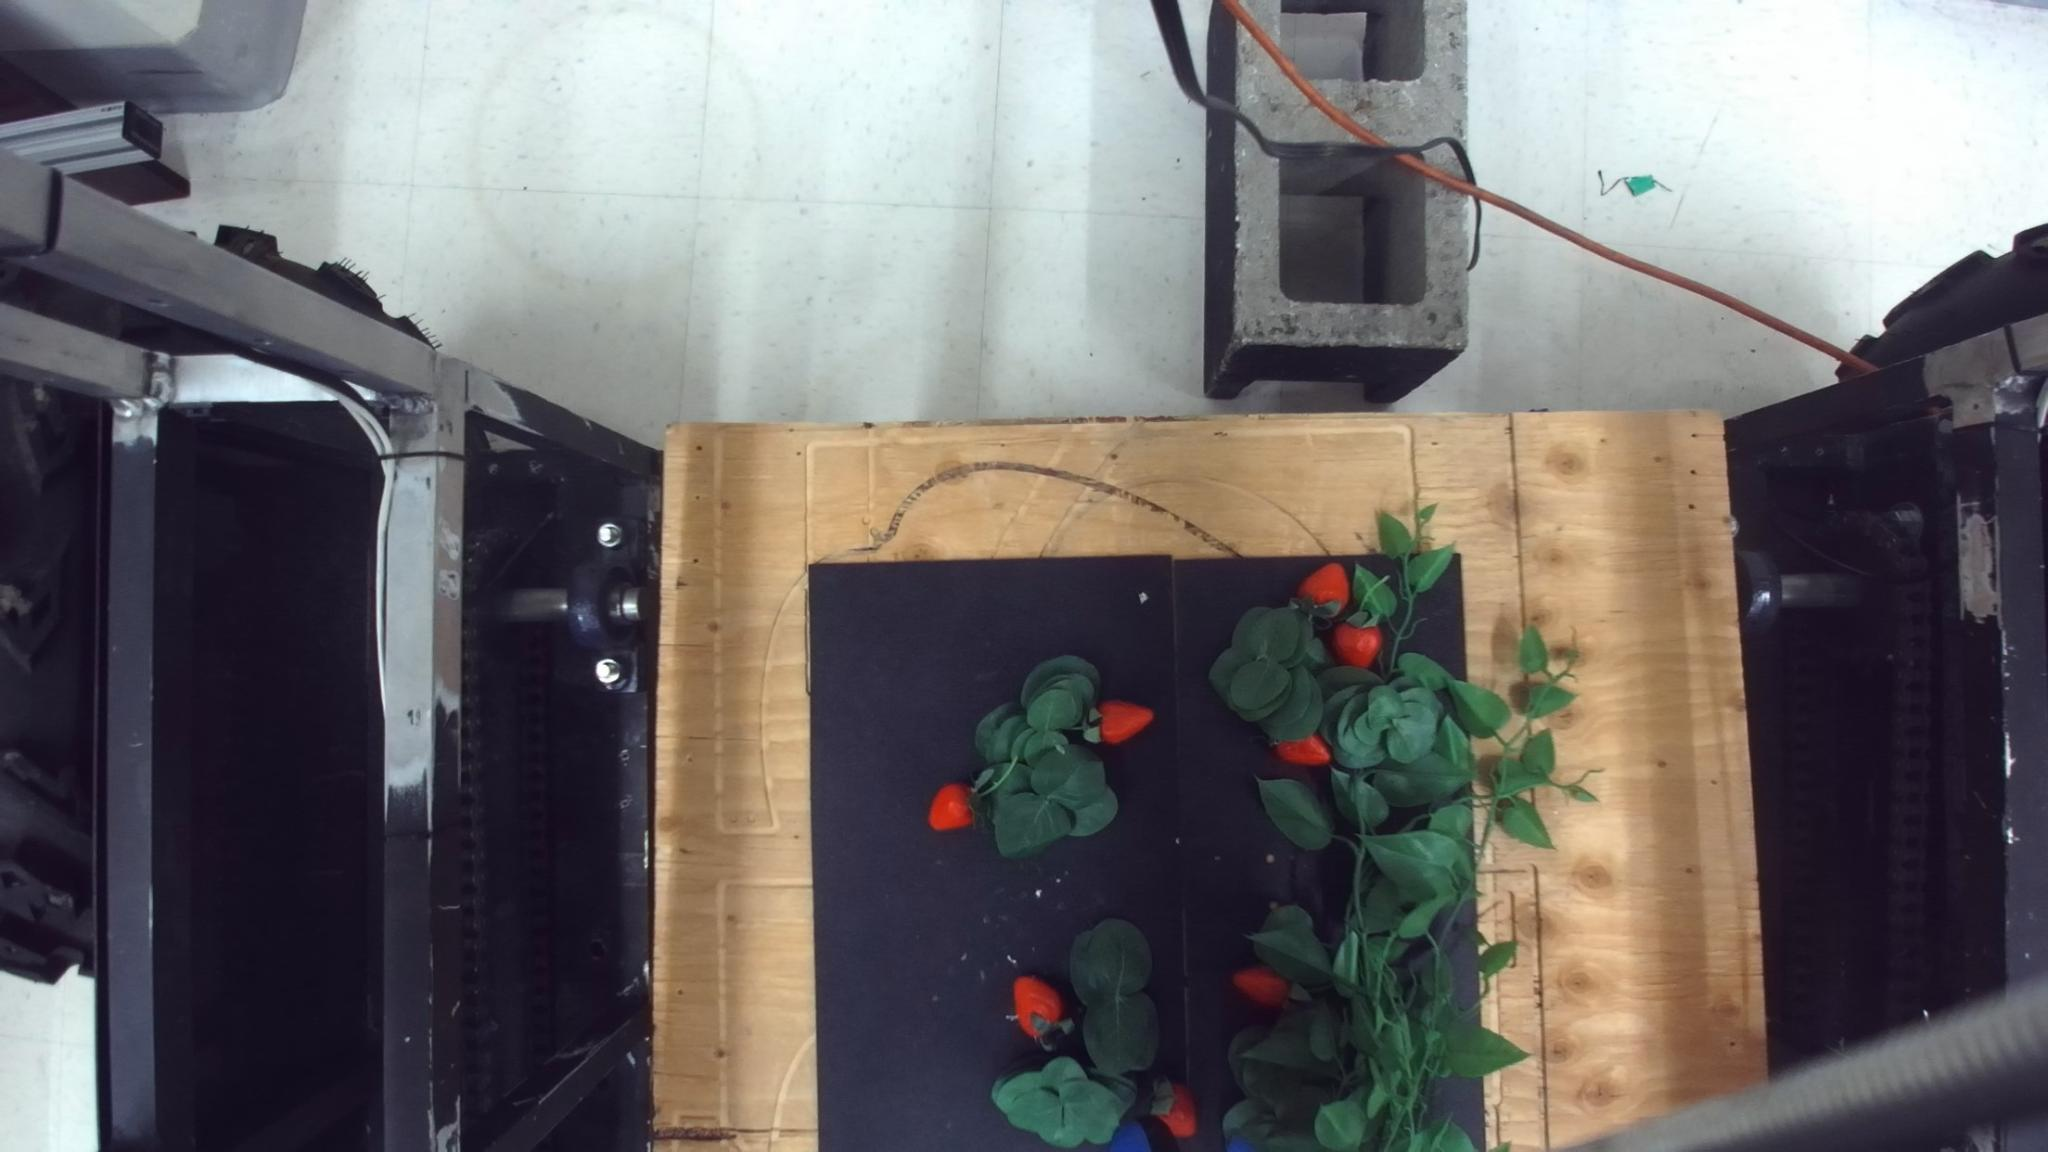strawberry: (1006, 973, 1075, 1048), (1083, 698, 1153, 745), (1294, 561, 1350, 619), (1149, 1077, 1197, 1139), (1329, 616, 1383, 670), (1232, 964, 1290, 1009), (927, 781, 976, 831), (1272, 731, 1331, 767)
